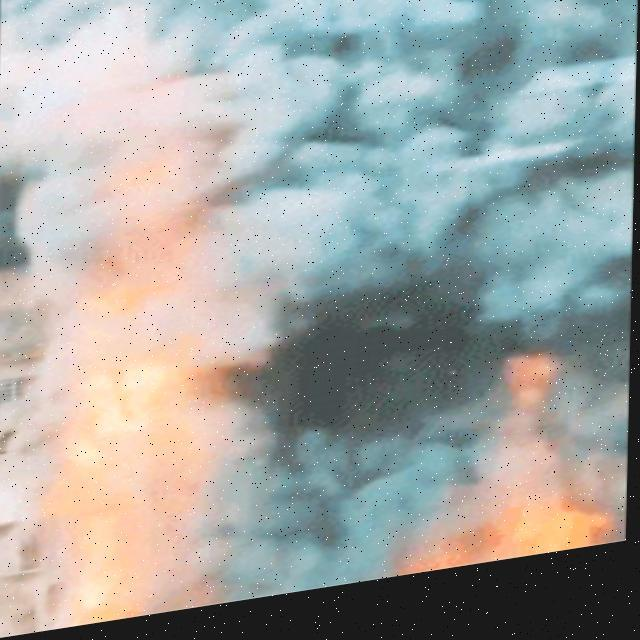Fire: (42, 82, 244, 632), (398, 357, 616, 586)
